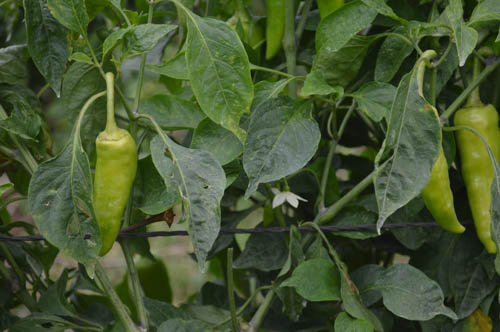ChiliPepper: (455, 101, 497, 254), (89, 133, 138, 254), (415, 123, 467, 237)
